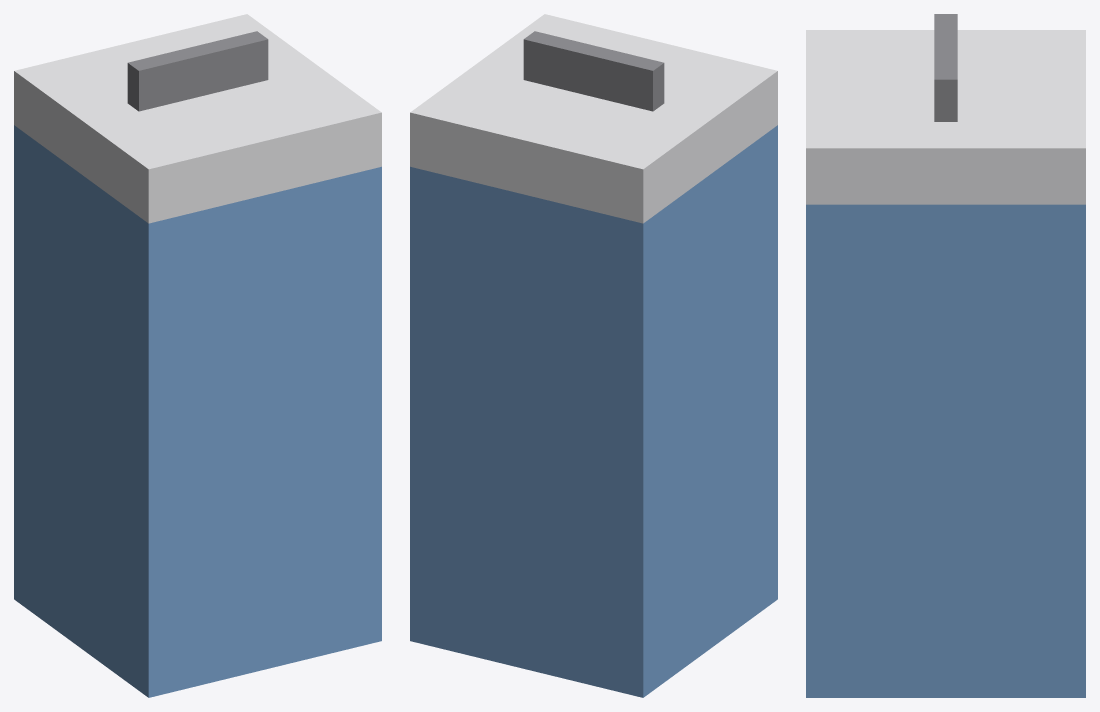
Rendered from cooler.glb.
3 views of the same model, side by side, from view 1: azimuth 30°, elevation 25°; view 2: azimuth 150°, elevation 25°; view 3: azimuth 270°, elevation 25° (orthographic). The views are drawn at different scales.
Visible parts, largest first — view 1: Cooler; view 2: Cooler; view 3: Cooler.
Boxes of the visible parts, left/top/right/bottom form: Cooler: left=14, top=14, right=381, bottom=697; Cooler: left=410, top=14, right=777, bottom=697; Cooler: left=806, top=14, right=1085, bottom=697.
Size of the model in its own units: 0.36 by 0.84 by 0.36.
